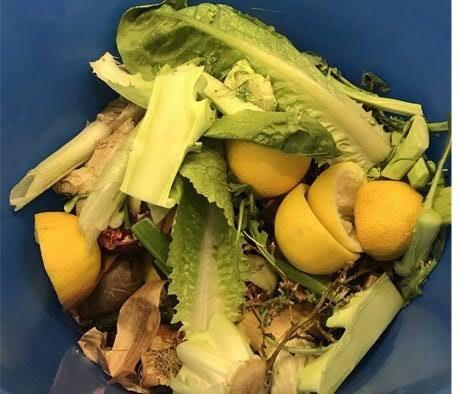organic: (116, 0, 439, 119), (274, 162, 421, 274), (10, 99, 136, 209), (122, 65, 213, 208), (297, 274, 402, 393), (34, 212, 100, 309), (106, 268, 163, 380), (225, 141, 310, 196)
